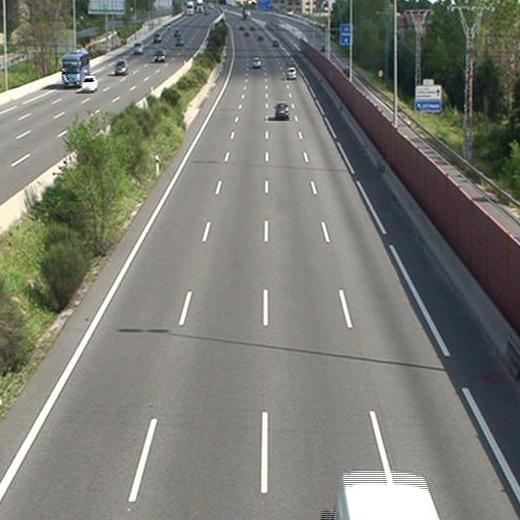car: (274, 99, 289, 120), (285, 67, 297, 81), (251, 55, 262, 69)
